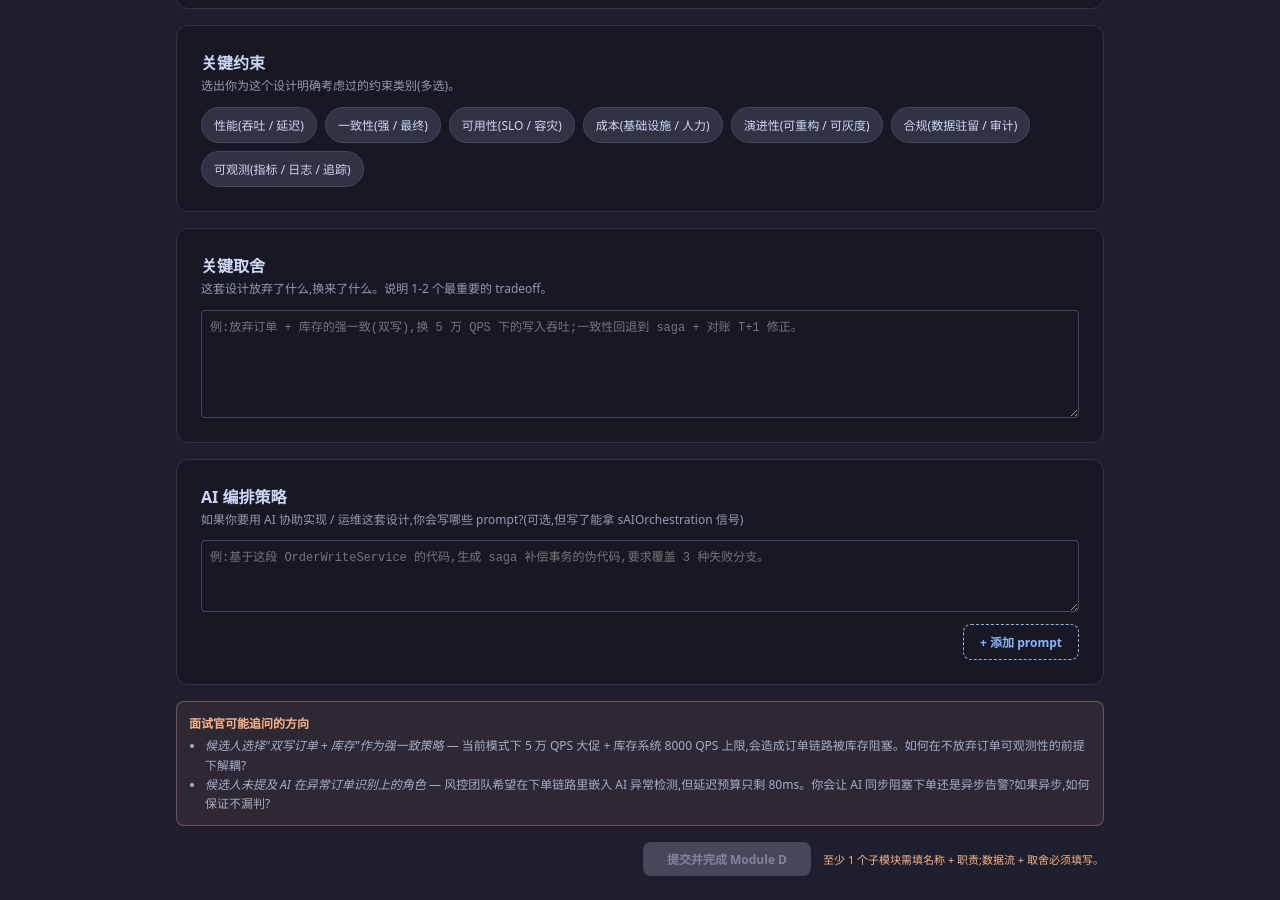
Test: <ModuleDPage /> › dynamic AI orchestration prompts › removes a non-first prompt but never the last row
(page scrolled)
What coordinates should you click on to do the following:
click the button with test id "md-add-ai-orchestration"
I would click on:
 (1021, 642)
Its box is [963, 624, 1079, 660].
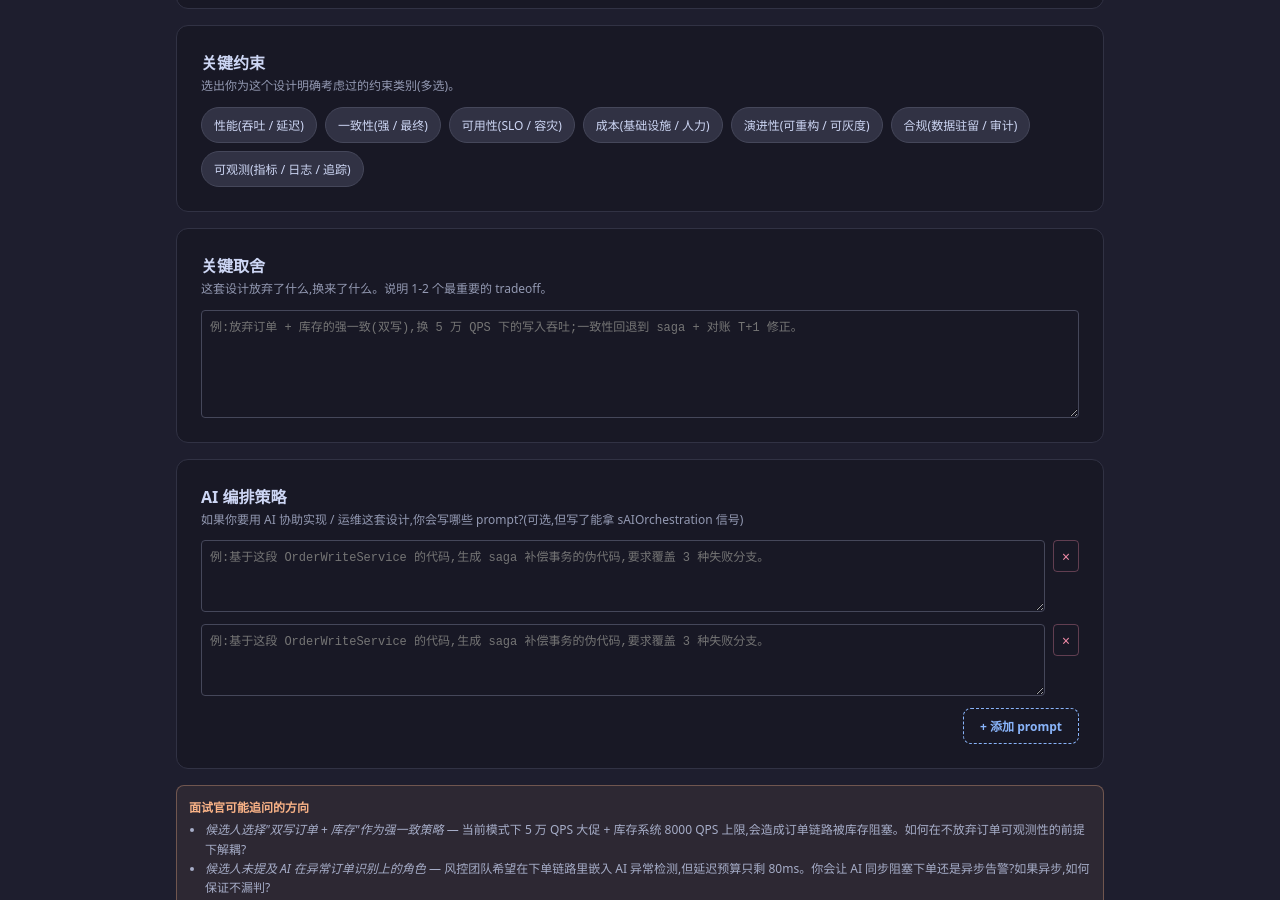
What coordinates should you click on to do the following:
click the button with test id "md-ai-orchestration-remove-1"
I would click on:
 (1066, 640)
Its box is [1053, 624, 1079, 656].
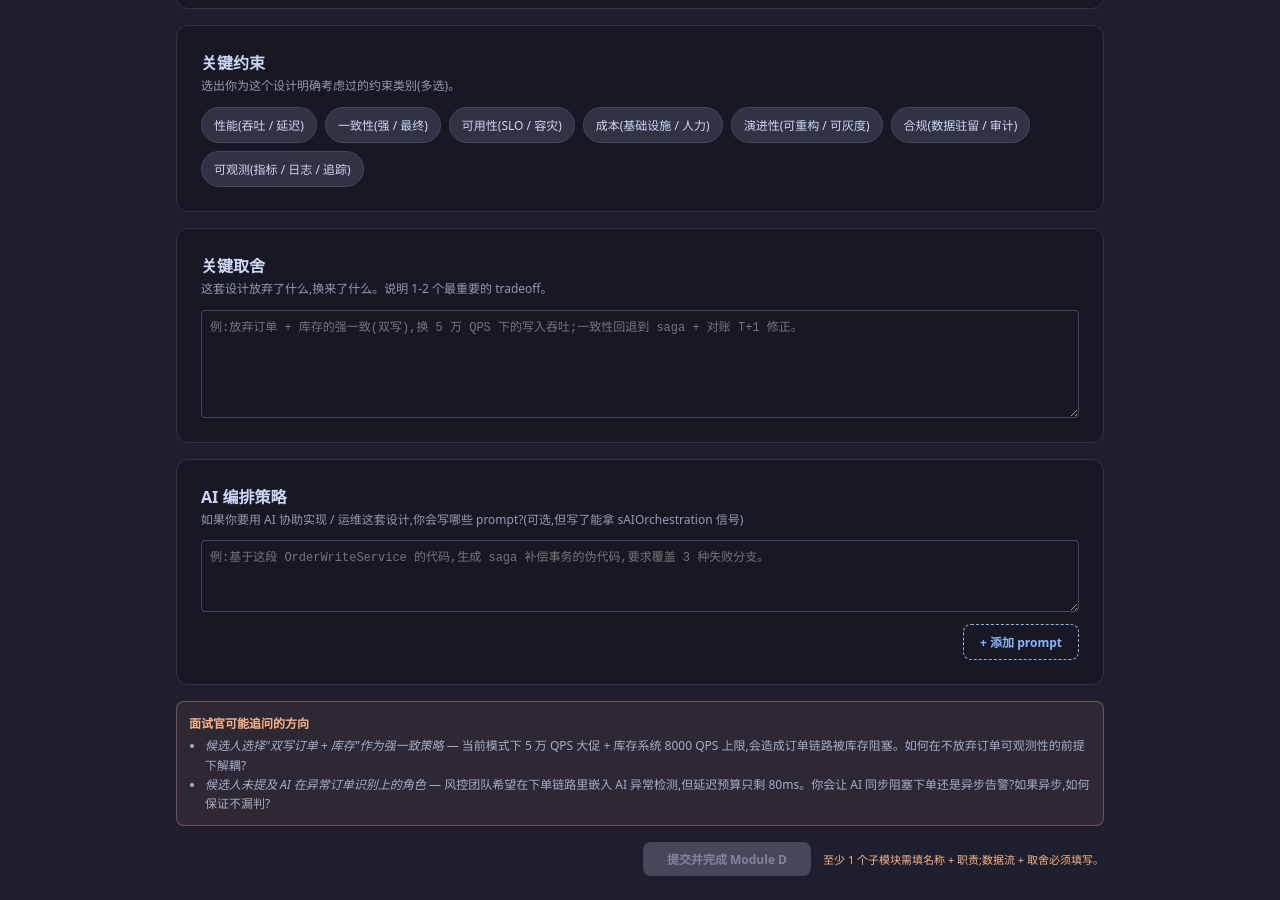
Now the text box with test id "md-ai-orchestration-1" is gone
Now the button with test id "md-ai-orchestration-remove-0" is gone
